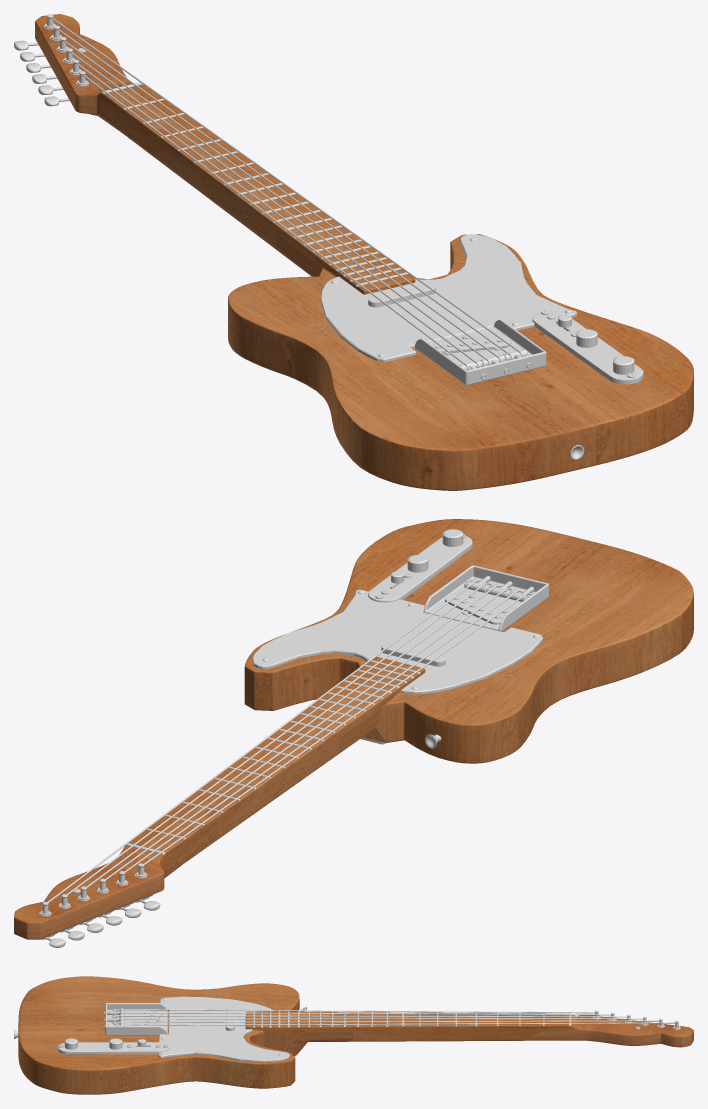
Rendered from guitar.fbx.
3 renders of one model, top to bottom at view 1: azimuth 30°, elevation 25°; view 2: azimuth 150°, elevation 25°; view 3: azimuth 270°, elevation 25°, orthographic. The views are drawn at different scales.
Visible parts, largest first — view 1: Plane, Plane.001, Cube.006, Cylinder.004, Cube.004, Cylinder.024, Cylinder.023, Cylinder.022, Cylinder.021, Cylinder.020, Cylinder.019, Cube.001 (+3 smaller); view 2: Plane, Plane.001, Cube.006, Cylinder.004, Cube.004, Cylinder.024, Cylinder.023, Cylinder.022, Cube.001, Cylinder.021, Cylinder.020, Cylinder.019 (+4 smaller); view 3: Plane, Plane.001, Cube.006, Cylinder.004, Cylinder.022, Cylinder.024, Cylinder.023, Cylinder.020, Cylinder.021, Cylinder.019, Cube.004, Cylinder.013 (+1 smaller).
Boxes of the visible parts, x1,y1,x2,y2 form: Plane: (35, 14, 693, 490); Plane.001: (320, 234, 576, 362); Cube.006: (415, 319, 546, 385); Cylinder.004: (532, 310, 643, 384); Cube.004: (123, 98, 411, 286); Cylinder.024: (51, 17, 523, 356); Cylinder.023: (58, 29, 513, 359); Cylinder.022: (64, 40, 502, 361); Cylinder.021: (71, 52, 491, 364); Cylinder.020: (77, 63, 480, 367); Cylinder.019: (83, 75, 470, 369); Cube.001: (14, 40, 69, 106); Plane: (14, 519, 693, 939); Plane.001: (252, 589, 542, 694); Cube.006: (423, 565, 548, 631); Cylinder.004: (368, 536, 472, 602); Cube.004: (146, 660, 420, 839); Cylinder.024: (48, 580, 479, 902); Cylinder.023: (66, 582, 491, 894); Cylinder.022: (86, 585, 501, 887); Cube.001: (40, 894, 160, 947); Cylinder.021: (105, 587, 511, 880); Cylinder.020: (124, 590, 523, 872); Cylinder.019: (144, 592, 532, 865); Plane: (18, 976, 693, 1094); Plane.001: (158, 996, 289, 1062); Cube.006: (105, 1003, 167, 1035); Cylinder.004: (58, 1042, 169, 1054); Cylinder.022: (111, 1018, 643, 1022); Cylinder.024: (116, 1022, 675, 1026); Cylinder.023: (113, 1020, 659, 1024); Cylinder.020: (111, 1012, 610, 1016); Cylinder.021: (113, 1015, 627, 1018); Cylinder.019: (114, 1009, 594, 1013); Cube.004: (253, 1011, 544, 1027); Cylinder.013: (593, 1010, 680, 1029).
Size of the model in its own units: 193 by 35.38 by 588.
Materials: 1 (1 with a texture image).
